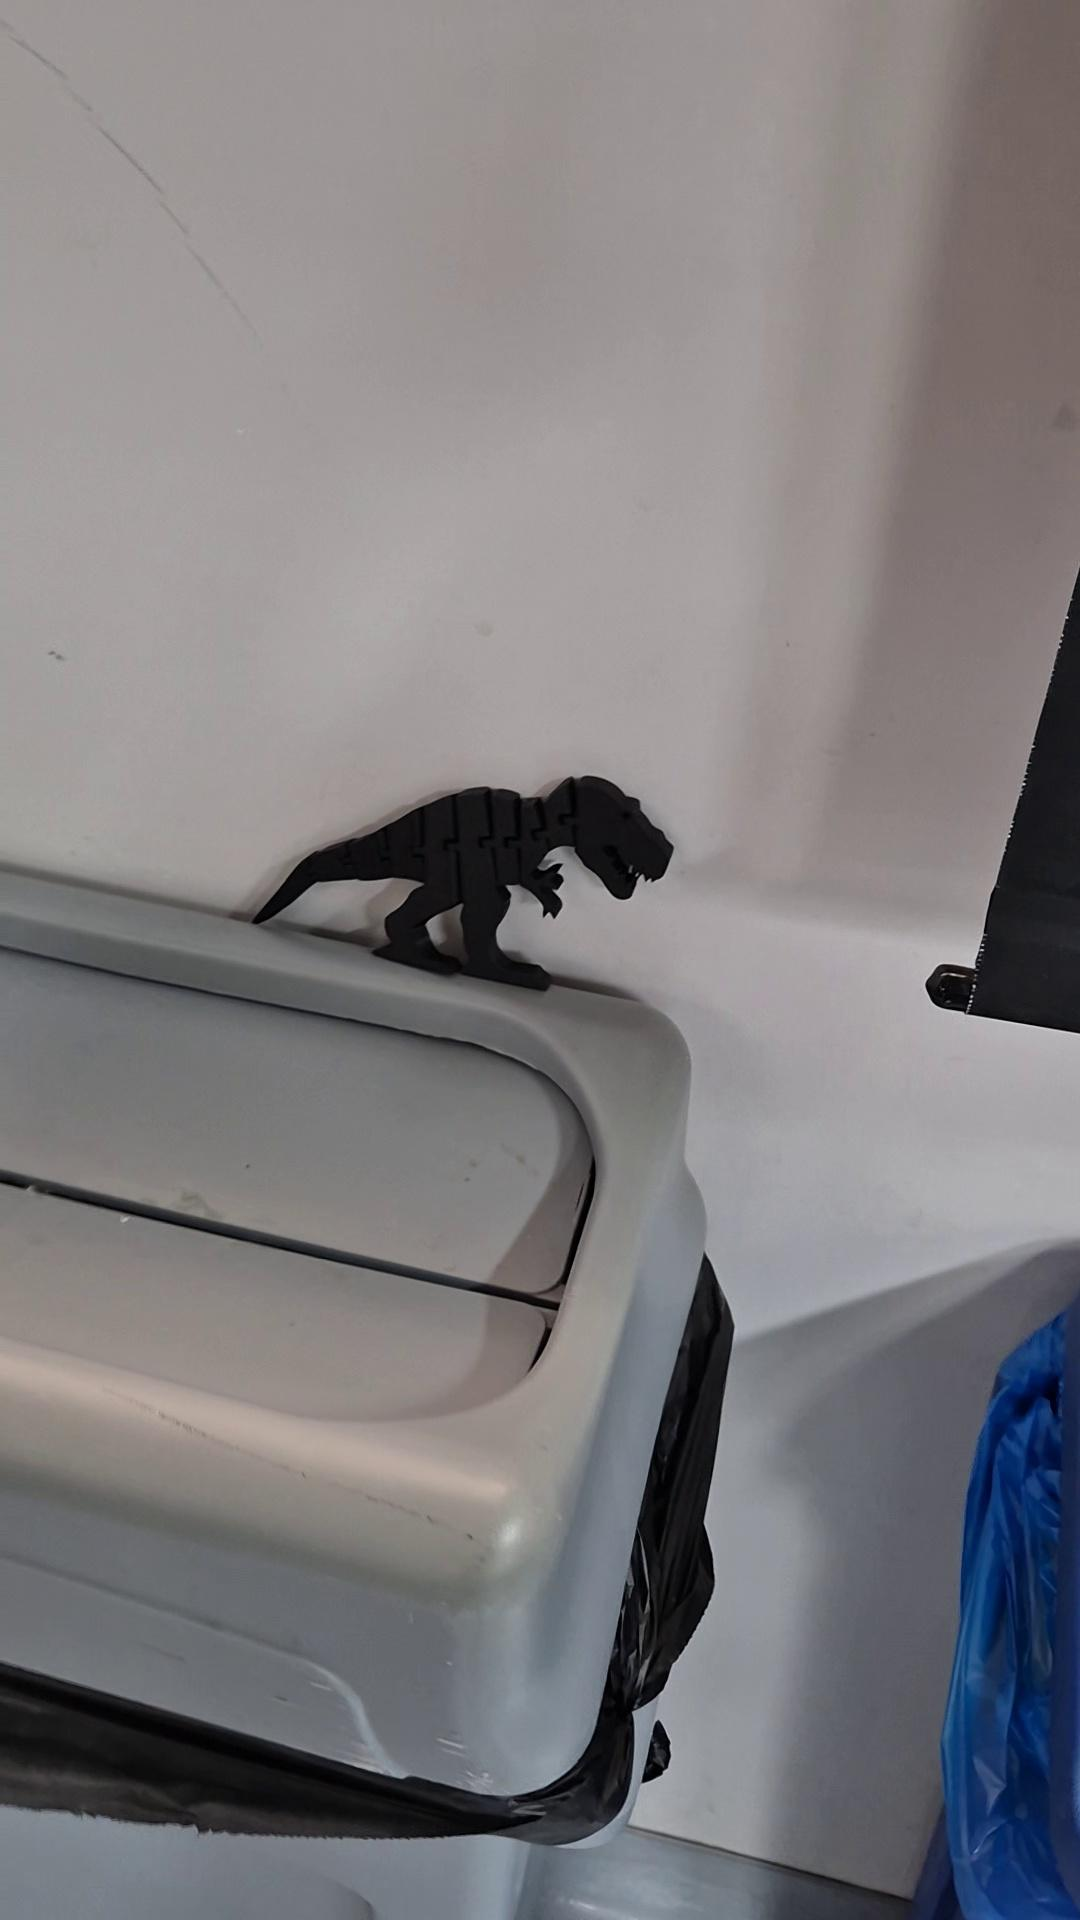dinosaur: (251, 774, 675, 994)
